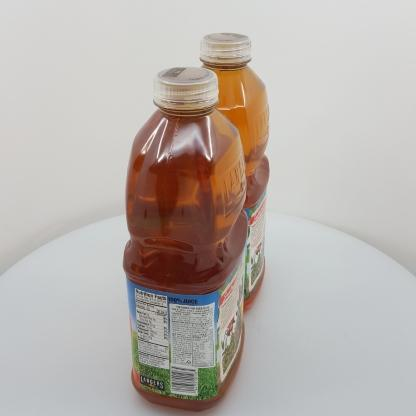-------------: (122, 67, 249, 412)
